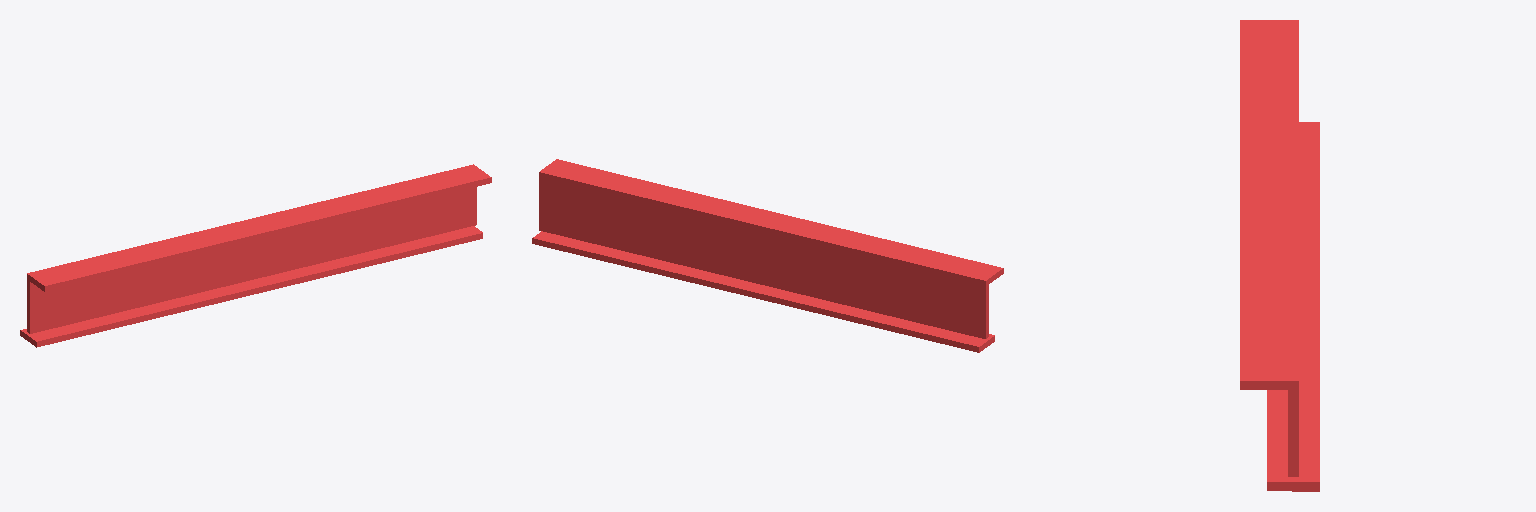
robot.urdf — box.urdf:
<?xml version="0.0" ?>
<robot name="box.urdf">

  <link name="baseLink">
    <contact>
      <lateral_friction value="1.0"/>
      <rolling_friction value="0.0001"/>
      <inertia_scaling value="3.0"/>
    </contact>
    <inertial>
      <origin rpy="0 0 0" xyz="0 0 0"/>
       <mass value=".01"/>
       <inertia ixx="1" ixy="0" ixz="0" iyy="1" iyz="0" izz="1"/>
    </inertial>
    <visual>
      <origin rpy="0 0 0" xyz="0 0 0"/>
      <geometry>
         <box size="0.8 0.01 0.1"/>
      </geometry>
      <material name="red">
        <color rgba="1 0.3412 0.3490 1"/>
      </material>
    </visual>
    <collision>
      <origin rpy="0 0 0" xyz="0 0 0"/>
      <geometry>
	 	    <box size="0.8 0.01 0.1"/>
      </geometry>
    </collision>
  </link>

  <link name="baseLink1">
    <contact>
      <lateral_friction value="1.0"/>
      <rolling_friction value="0.0001"/>
      <inertia_scaling value="3.0"/>
    </contact>
    <inertial>
      <origin rpy="0 0 0" xyz="0 0 0"/>
       <mass value=".01"/>
       <inertia ixx="1" ixy="0" ixz="0" iyy="1" iyz="0" izz="1"/>
    </inertial>
    <visual>
      <origin rpy="0 0 0" xyz="0 0 0"/>
      <geometry>
         <box size="0.8 0.01 0.05"/>
      </geometry>
      <material name="red">
        <color rgba="1 0.3412 0.3490 1"/>
      </material>
    </visual>
    <collision>
      <origin rpy="0 0 0" xyz="0 0 0"/>
      <geometry>
	 	    <box size="0.8 0.01 0.05"/>
      </geometry>
    </collision>
  </link>


  <link name="baseLink2">
    <contact>
      <lateral_friction value="1.0"/>
      <rolling_friction value="0.0001"/>
      <inertia_scaling value="3.0"/>
    </contact>
    <inertial>
      <origin rpy="0 0 0" xyz="0 0 0"/>
       <mass value="5"/>
       <inertia ixx="1" ixy="0" ixz="0" iyy="1" iyz="0" izz="1"/>
    </inertial>
    <visual>
      <origin rpy="0 0 0" xyz="0 0 0"/>
      <geometry>
         <box size="0.8 0.01 0.05"/>
      </geometry>
      <material name="red">
        <color rgba="1 0.3412 0.3490 1"/>
      </material>
    </visual>
    <collision>
      <origin rpy="0 0 0" xyz="0 0 0"/>
      <geometry>
	 	    <box size="0.8 0.01 0.05"/>
      </geometry>
    </collision>
  </link>

  <joint name="base_joint" type="fixed">
    <origin rpy="-1.57079632679 0 0" xyz="0 -0.025 0.045"/>
    <parent link="baseLink"/>
    <child link="baseLink1"/>
    <axis xyz="0 0 1"/>
  </joint>

  <joint name="base_joint1" type="fixed">
    <origin rpy="1.57 0 0" xyz="0 0 -0.06 "/>
    <parent link="baseLink"/>
    <child link="baseLink2"/>
    <axis xyz="0 0 1"/>
  </joint>

</robot>

--- Facts derived from the render (not from the file) ---
Views: 3 orthographic renders of the robot side by side, from view 1: azimuth 30°, elevation 25°; view 2: azimuth 150°, elevation 25°; view 3: azimuth 270°, elevation 25°.
Model box.urdf with 3 links and 2 joints (2 fixed), rooted at baseLink, posed all joints at 0.
Visible links, largest first — view 1: baseLink, baseLink1, baseLink2; view 2: baseLink, baseLink2, baseLink1; view 3: baseLink1, baseLink2, baseLink.
Link boxes in pixels (x1,y1,x2,y2): baseLink: (27,164,476,333); baseLink1: (29,166,491,291); baseLink2: (20,226,482,347); baseLink: (539,170,988,338); baseLink2: (532,231,994,352); baseLink1: (542,159,1003,285); baseLink1: (1240,20,1292,389); baseLink2: (1267,122,1319,491); baseLink: (1288,20,1298,476).
Bounding box of the posed robot: 0.8 × 0.075 × 0.115 m (x, y, z).
Geometry: primitives only (box / cylinder / sphere), no mesh files.